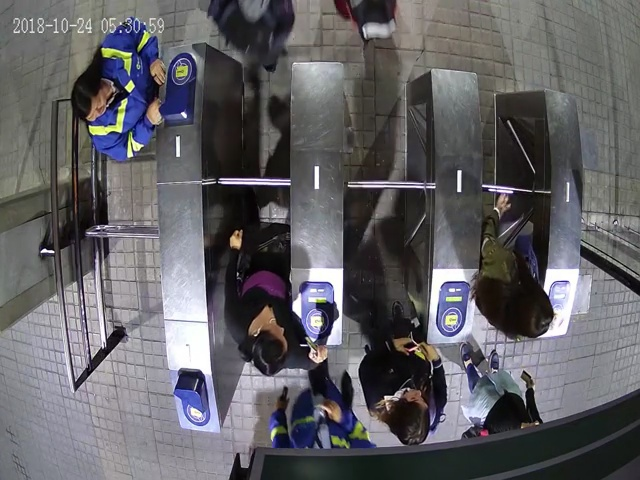Chaleco_azul: (72, 21, 167, 160), (270, 380, 376, 448)
